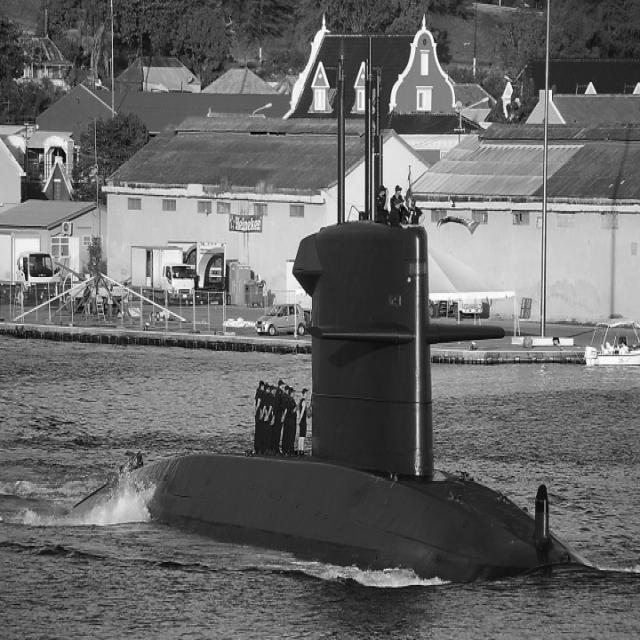submarine: (72, 4, 510, 544)
